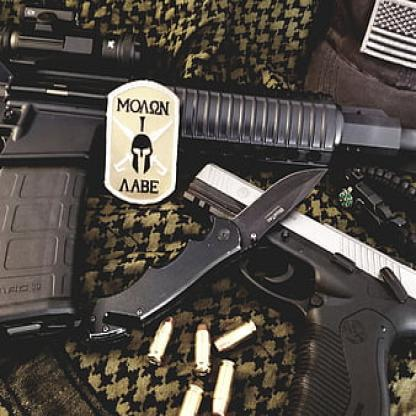Gun: (0, 4, 416, 343)
Knife: (82, 163, 331, 348)
Pistol: (183, 161, 416, 416)
